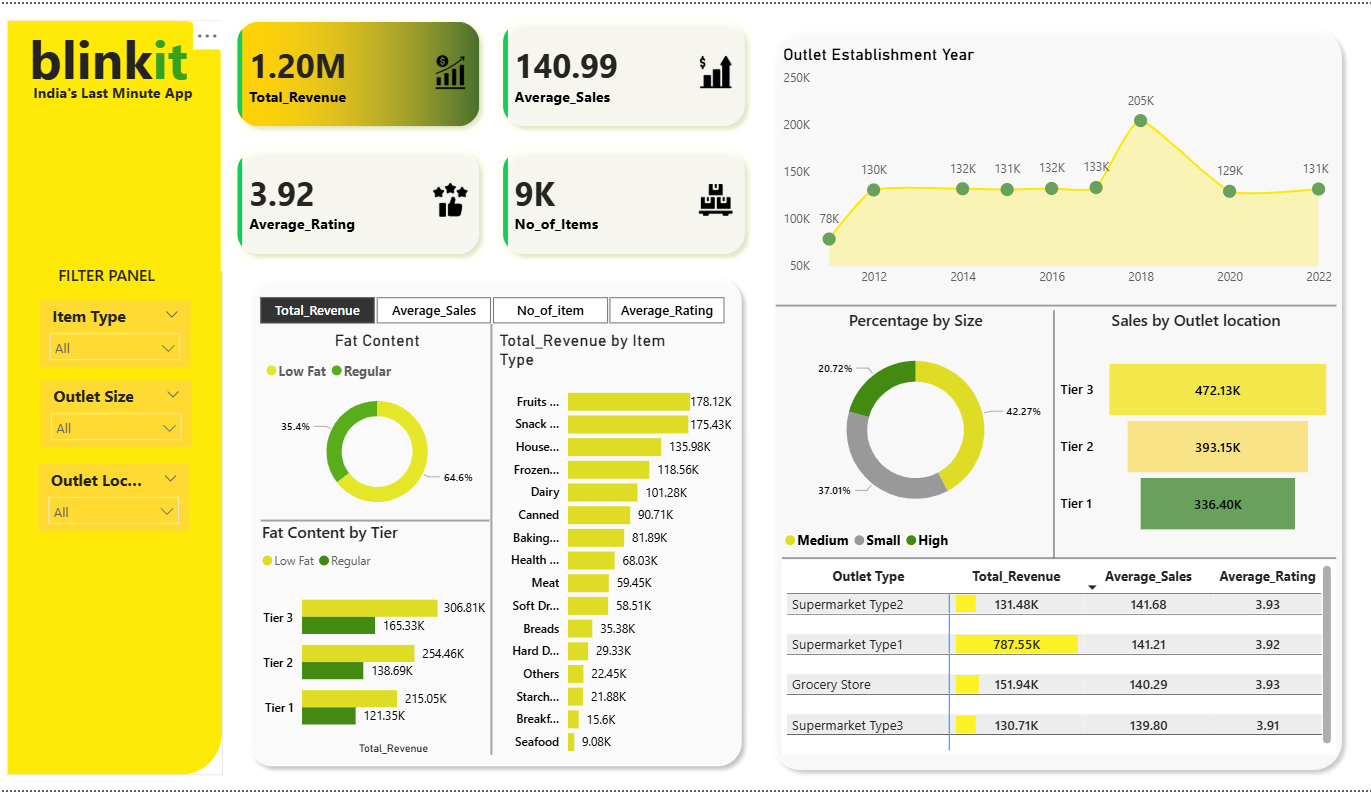

This screenshot's page, from the dashboard's own definition file:
{"tool":"powerbi","page":{"name":"Page 1","canvas":[1400,800],"ordinal":0},"visuals":[{"type":"shape","box":[10.5,16.5,219.1,768.4],"z":0},{"type":"textbox","box":[28.5,13.5,181.6,105.1],"z":1000},{"type":"textbox","box":[31.5,75,219.1,39],"z":2000},{"type":"cardVisual","fields":{"Data":["BlinkIT Grocery Data.Total_Revenue","BlinkIT Grocery Data.Average_Sales","BlinkIT Grocery Data.Average_Rating","BlinkIT Grocery Data.No_of_item"]},"box":[228.1,1.5,550,270.2],"z":3000},{"type":"shape","box":[246.1,270.2,520,515],"z":4000},{"type":"donutChart","title":"Fat Content","fields":{"Y":["BlinkIT Grocery Data.Total_Revenue"],"Category":["BlinkIT Grocery Data.Item Fat Content"]},"box":[268.7,331.7,237.1,196.6],"z":5000},{"type":"slicer","fields":{"Values":["Matrics.Matrics"]},"box":[241.6,291.2,522.3,40.5],"z":6000},{"type":"clusteredBarChart","title":"Fat Content by Tier","fields":{"Y":["BlinkIT Grocery Data.Total_Revenue"],"Category":["BlinkIT Grocery Data.Outlet Location Type"],"Series":["BlinkIT Grocery Data.Item Fat Content"]},"box":[264.2,525.3,237.1,243.1],"z":7000},{"type":"shape","box":[481.8,325.7,42,438.3],"z":8000},{"type":"shape","box":[268.7,514.8,232.6,21],"z":9000},{"type":"barChart","fields":{"Y":["BlinkIT Grocery Data.Total_Revenue"],"Category":["BlinkIT Grocery Data.Item Type"]},"box":[505.8,331.7,246.1,442.8],"z":10000},{"type":"shape","box":[779.9,16.3,597.8,771.7],"z":11000},{"type":"pivotTable","fields":{"Rows":["BlinkIT Grocery Data.Outlet Type"],"Values":["BlinkIT Grocery Data.Total_Revenue","BlinkIT Grocery Data.Average_Sales","BlinkIT Grocery Data.Average_Rating"]},"box":[798.9,566.6,563.9,198.4],"z":12000},{"type":"donutChart","title":"Percentage by Size","fields":{"Y":["BlinkIT Grocery Data.Total_Revenue"],"Category":["BlinkIT Grocery Data.Outlet Size"]},"box":[796.2,309.8,277.2,254.1],"z":13000},{"type":"funnel","title":"Sales by Outlet location","fields":{"Y":["BlinkIT Grocery Data.Total_Revenue"],"Category":["BlinkIT Grocery Data.Outlet Location Type"]},"box":[1077.5,309.8,285.3,251.4],"z":14000},{"type":"shape","box":[798.9,558.4,563.9,10.9],"z":15000},{"type":"shape","box":[1054.4,311.1,42.1,252.7],"z":16000},{"type":"shape","box":[792.1,301.6,570.7,10.9],"z":17000},{"type":"lineChart","title":" Outlet Establishment Year","fields":{"Y":["BlinkIT Grocery Data.Total_Revenue"],"Category":["BlinkIT Grocery Data.Outlet Establishment Year"]},"box":[794.8,40.8,567.9,255.4],"z":18000},{"type":"slicer","fields":{"Values":["BlinkIT Grocery Data.Item Type"]},"box":[43.5,301.6,153.5,67.9],"z":19000},{"type":"slicer","fields":{"Values":["BlinkIT Grocery Data.Outlet Size"]},"box":[44.8,383.2,153.5,67.9],"z":20000},{"type":"slicer","fields":{"Values":["BlinkIT Grocery Data.Outlet Location Type"]},"box":[42.1,467.4,153.5,67.9],"z":21000},{"type":"textbox","box":[57.1,259.5,129.1,36.7],"z":22000}]}

Visuals, with their boxes in screenshot pixels (x1, y1, x2, y2), scaled from the page's 1400x800 canvas onto the 1371x799 screenshot:
shape: l=10, t=16, r=225, b=784
textbox: l=28, t=13, r=206, b=118
textbox: l=31, t=75, r=245, b=114
cardVisual - BlinkIT Grocery Data.Total_Revenue x BlinkIT Grocery Data.Average_Sales: l=223, t=1, r=762, b=271
shape: l=241, t=270, r=750, b=784
"Fat Content" donutChart: l=263, t=331, r=495, b=528
slicer - Matrics.Matrics: l=237, t=291, r=748, b=331
"Fat Content by Tier" clusteredBarChart: l=259, t=525, r=491, b=767
shape: l=472, t=325, r=513, b=763
shape: l=263, t=514, r=491, b=535
barChart - BlinkIT Grocery Data.Total_Revenue x BlinkIT Grocery Data.Item Type: l=495, t=331, r=736, b=774
shape: l=764, t=16, r=1349, b=787
pivotTable - BlinkIT Grocery Data.Outlet Type x BlinkIT Grocery Data.Total_Revenue: l=782, t=566, r=1335, b=764
"Percentage by Size" donutChart: l=780, t=309, r=1051, b=563
"Sales by Outlet location" funnel: l=1055, t=309, r=1335, b=560
shape: l=782, t=558, r=1335, b=569
shape: l=1033, t=311, r=1074, b=563
shape: l=776, t=301, r=1335, b=312
" Outlet Establishment Year" lineChart: l=778, t=41, r=1334, b=296
slicer - BlinkIT Grocery Data.Item Type: l=43, t=301, r=193, b=369
slicer - BlinkIT Grocery Data.Outlet Size: l=44, t=383, r=194, b=451
slicer - BlinkIT Grocery Data.Outlet Location Type: l=41, t=467, r=192, b=535
textbox: l=56, t=259, r=182, b=296
